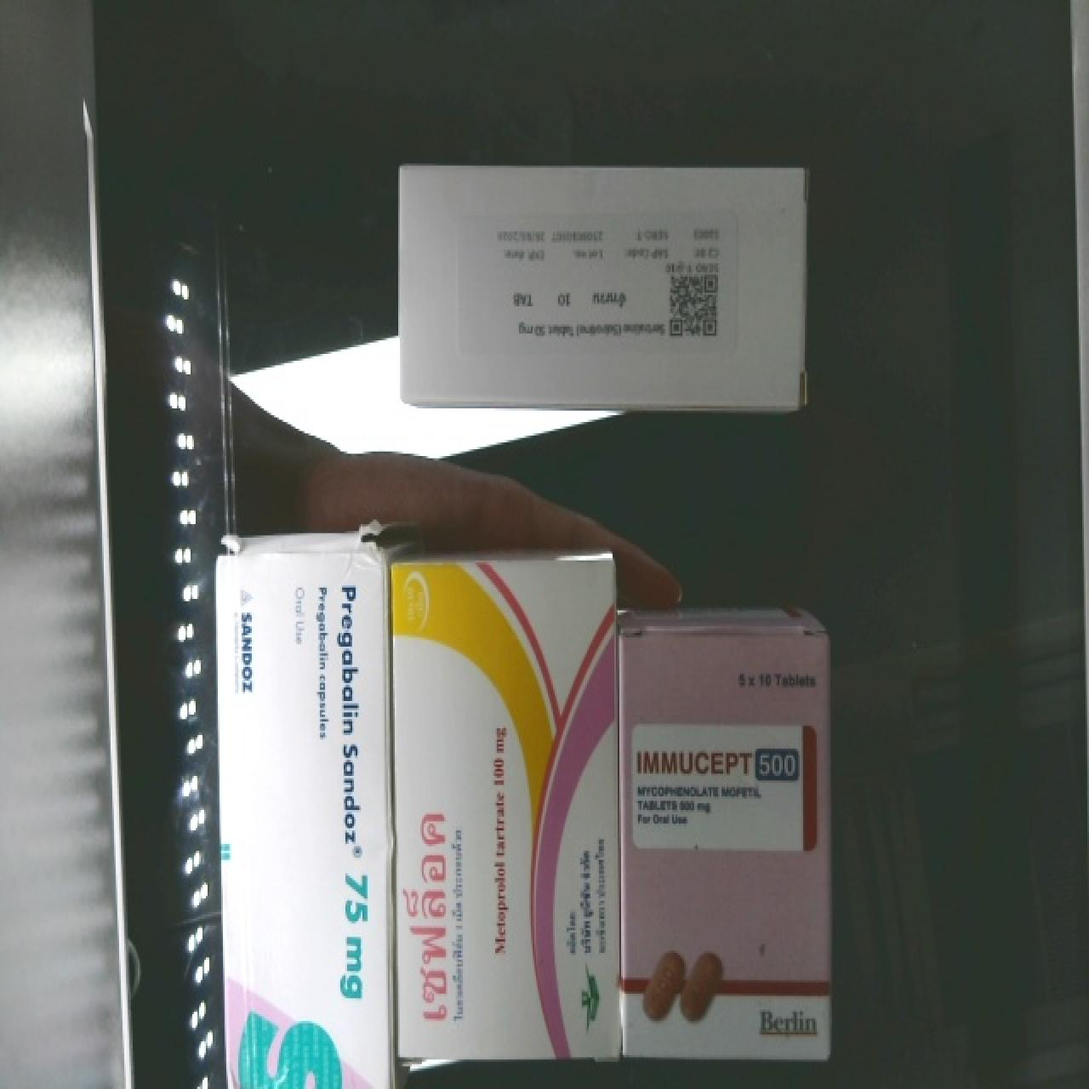medicine_label_obb: (321, 565, 381, 1014), (395, 770, 453, 1056), (629, 725, 816, 797)
qr_code: (653, 251, 732, 356)
